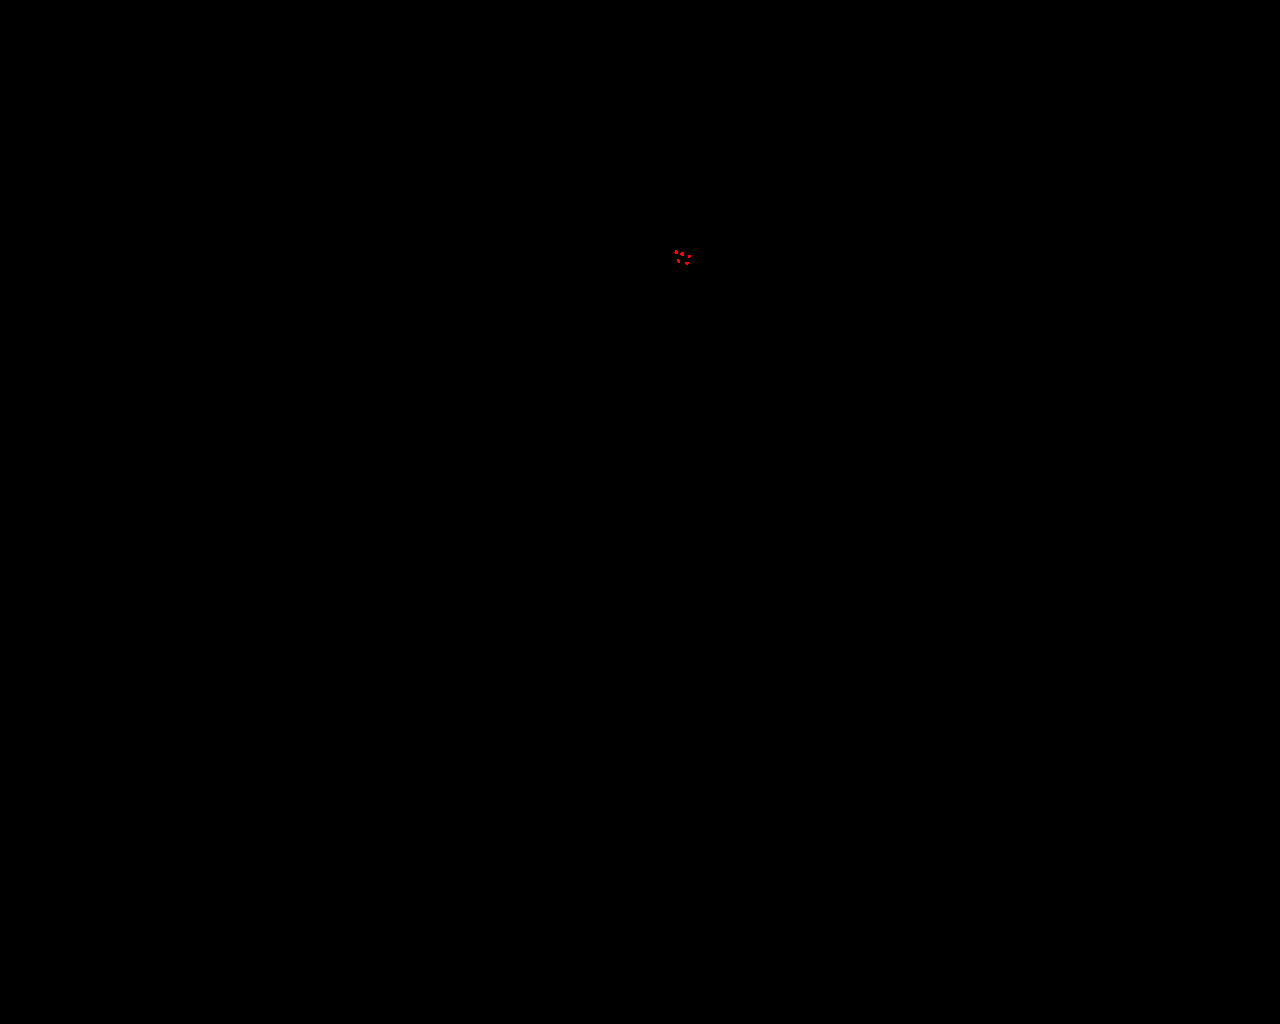Target: (674, 250, 678, 254), (680, 252, 684, 256), (677, 259, 680, 263), (688, 255, 691, 258), (685, 262, 689, 265)
